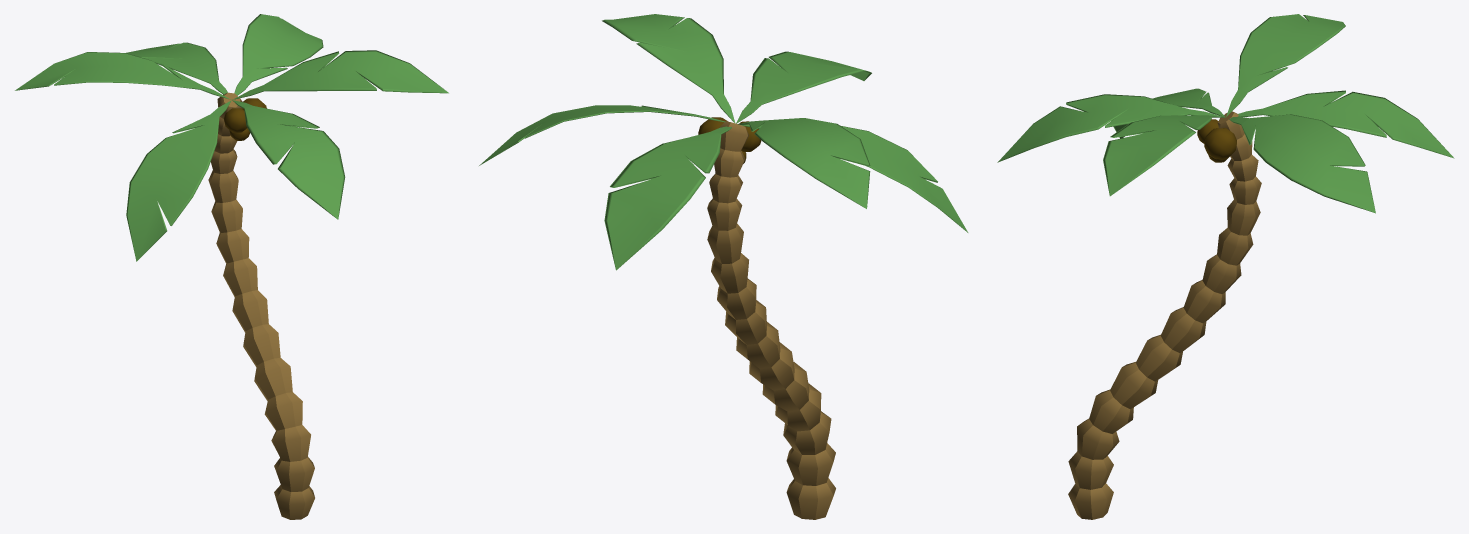
The model's file is Palm_Tree.fbx.
3 views of the same model, side by side, from view 1: azimuth 30°, elevation 25°; view 2: azimuth 150°, elevation 25°; view 3: azimuth 270°, elevation 25° (orthographic). The views are drawn at different scales.
Parts seen in each view (by area): view 1: Palm_Tree_1; view 2: Palm_Tree_1; view 3: Palm_Tree_1.
Boxes of the visible parts, x1=… form: Palm_Tree_1: x1=15, y1=14, x2=448, y2=519; Palm_Tree_1: x1=479, y1=14, x2=968, y2=519; Palm_Tree_1: x1=997, y1=14, x2=1454, y2=519.
Bounding box in the file's own units: 156 × 185 × 176.
